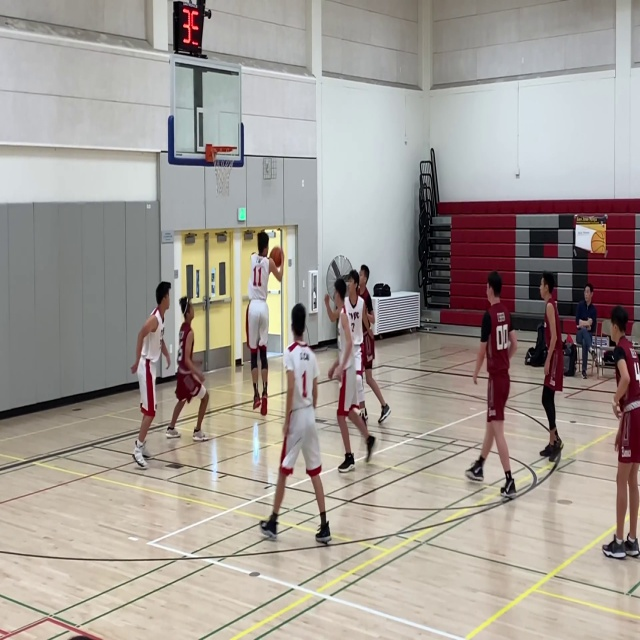Basketball: (269, 246, 284, 267)
